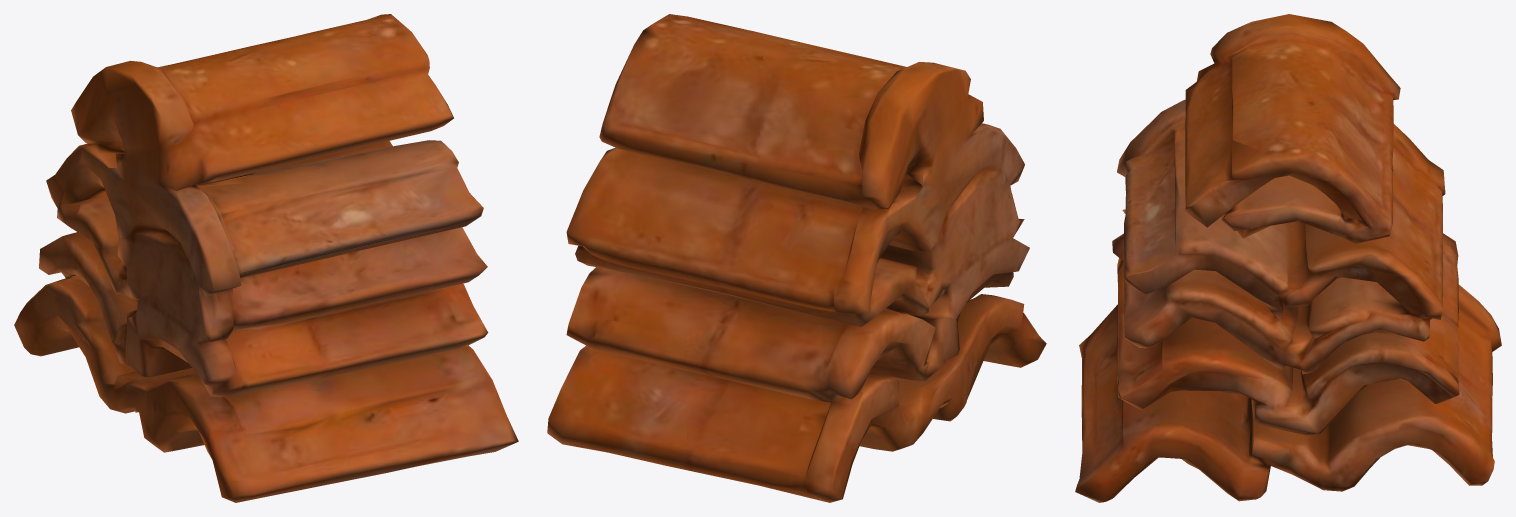
Rendered from tile-stack.glb.
The picture shows the model from 3 angles, left to right: view 1: azimuth 30°, elevation 25°; view 2: azimuth 150°, elevation 25°; view 3: azimuth 270°, elevation 25°; orthographic projection. The views are drawn at different scales.
Visible parts, largest first — view 1: tripo_node_cf983494-644b-4c50-bb6e-c20cf63e9991; view 2: tripo_node_cf983494-644b-4c50-bb6e-c20cf63e9991; view 3: tripo_node_cf983494-644b-4c50-bb6e-c20cf63e9991.
Part boxes in pixels (box(x1,y1,x2,y2)): tripo_node_cf983494-644b-4c50-bb6e-c20cf63e9991: box(14, 14, 518, 502); tripo_node_cf983494-644b-4c50-bb6e-c20cf63e9991: box(547, 14, 1046, 502); tripo_node_cf983494-644b-4c50-bb6e-c20cf63e9991: box(1075, 14, 1501, 502).
Bounding box in the file's own units: 0.764 × 0.9383 × 1.
Materials: 1 (1 with a texture image).
